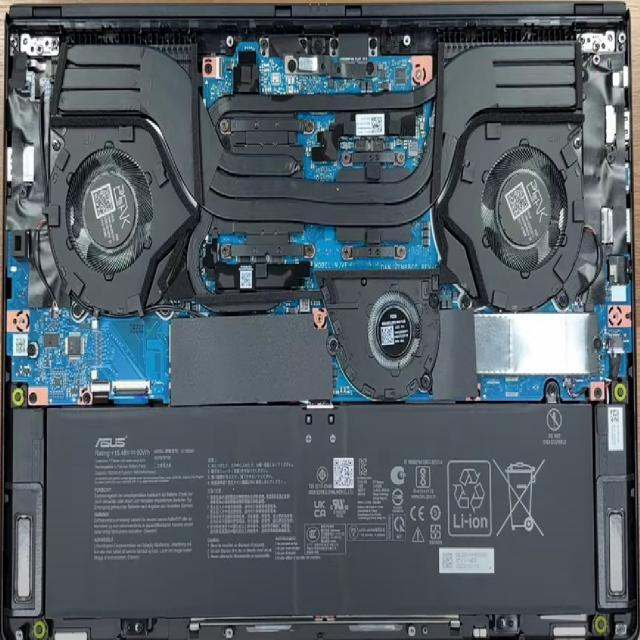RAM: (68, 418, 582, 588)
SSD: (30, 392, 39, 404), (27, 344, 35, 355), (83, 396, 90, 404)
